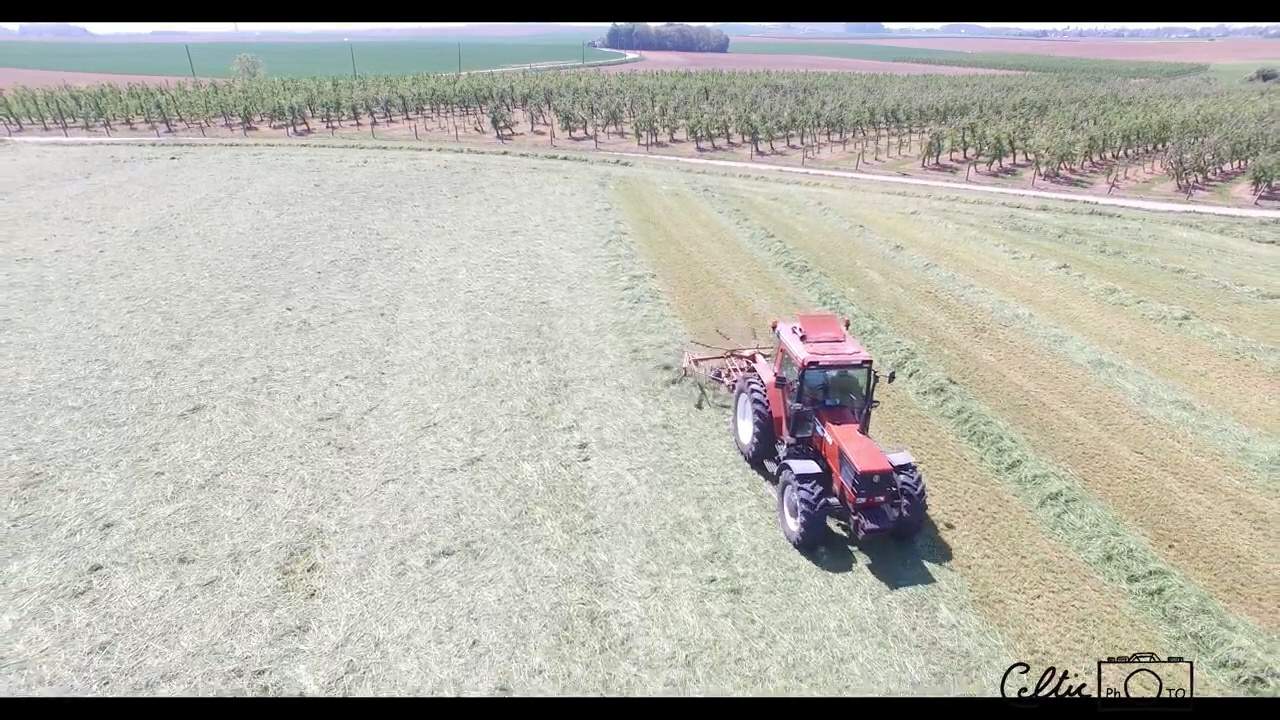traktor: (725, 314, 925, 546)
